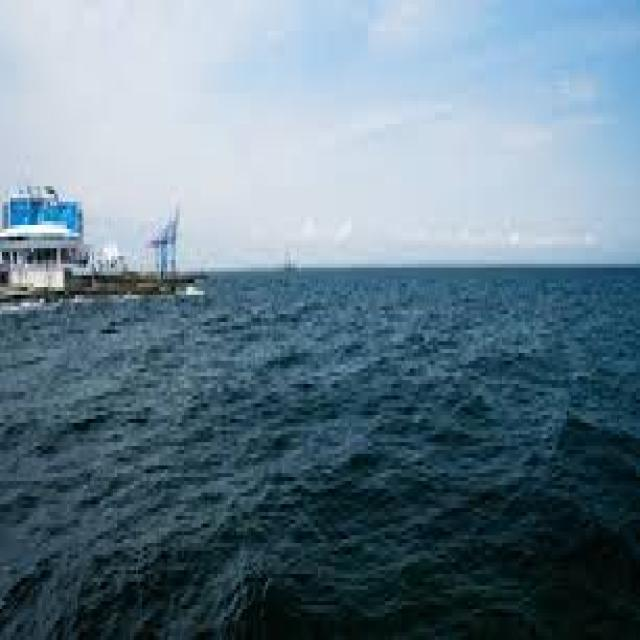fishing boat: (3, 157, 208, 308)
